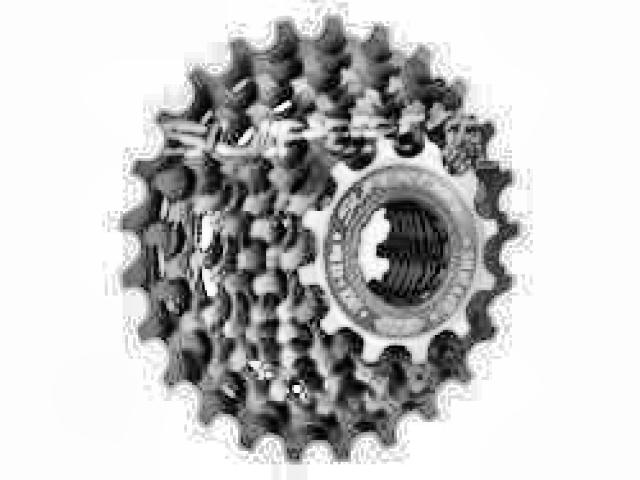cassette: (120, 16, 522, 466)
